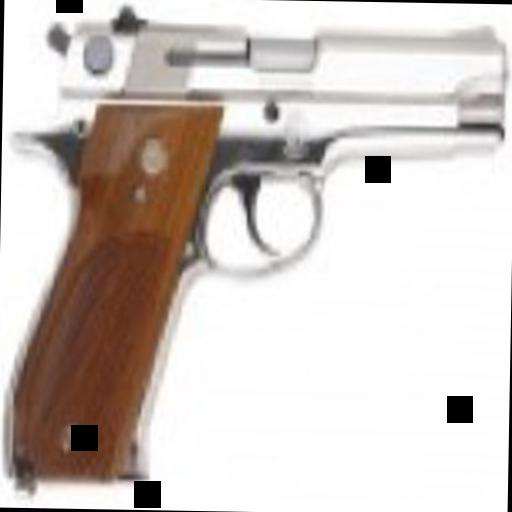Handgun: (0, 0, 505, 497)
